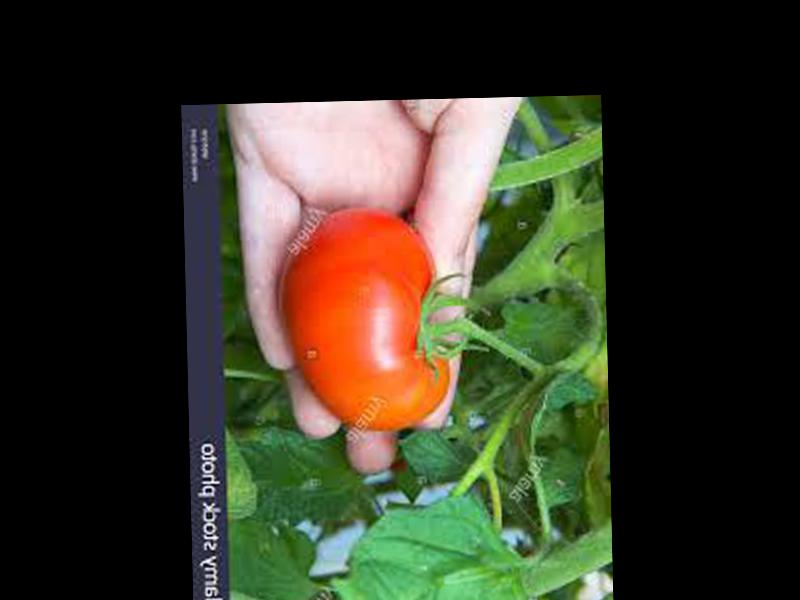Tomato: (282, 204, 450, 433)
